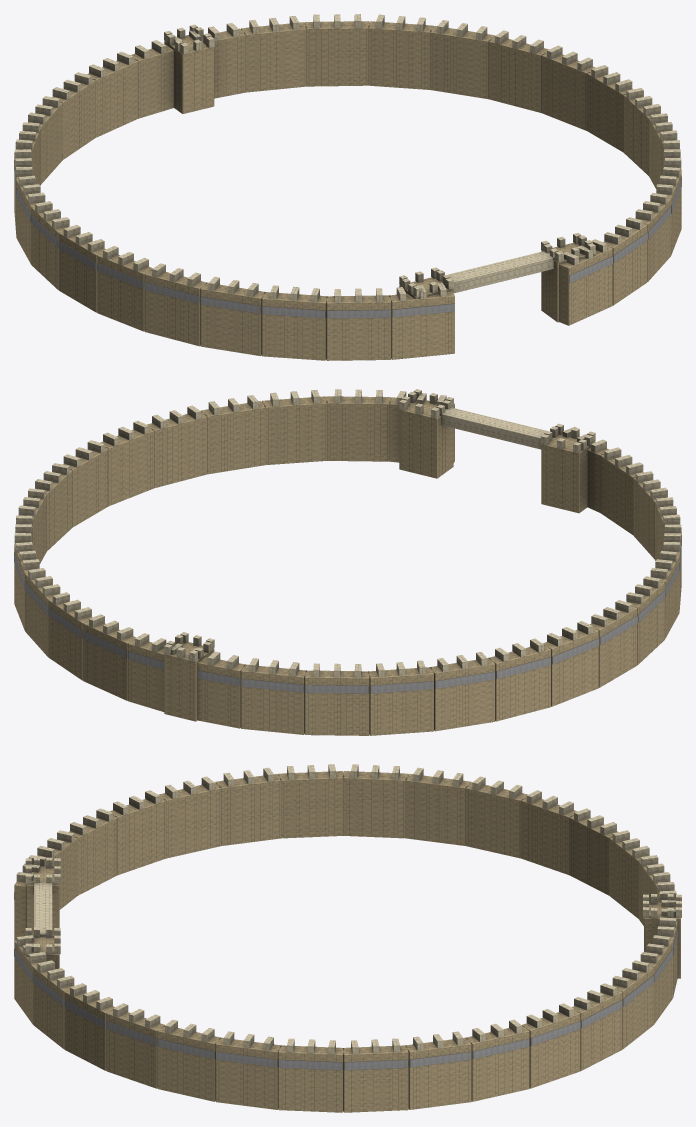
File: shared-gunpowder-israelite.glb
3 renders of one model, top to bottom at view 1: azimuth 30°, elevation 25°; view 2: azimuth 150°, elevation 25°; view 3: azimuth 270°, elevation 25°, orthographic.
Parts seen in each view (by area): view 1: LOD0; view 2: LOD0; view 3: LOD0.
Boxes of the visible parts, x1,y1,x2,y2 form: LOD0: (14, 14, 681, 360); LOD0: (14, 389, 681, 735); LOD0: (14, 764, 681, 1112).
Size of what is drawn, in the model's own units: 6.8 by 0.767 by 6.76.
Materials: 2 (2 with a texture image).
